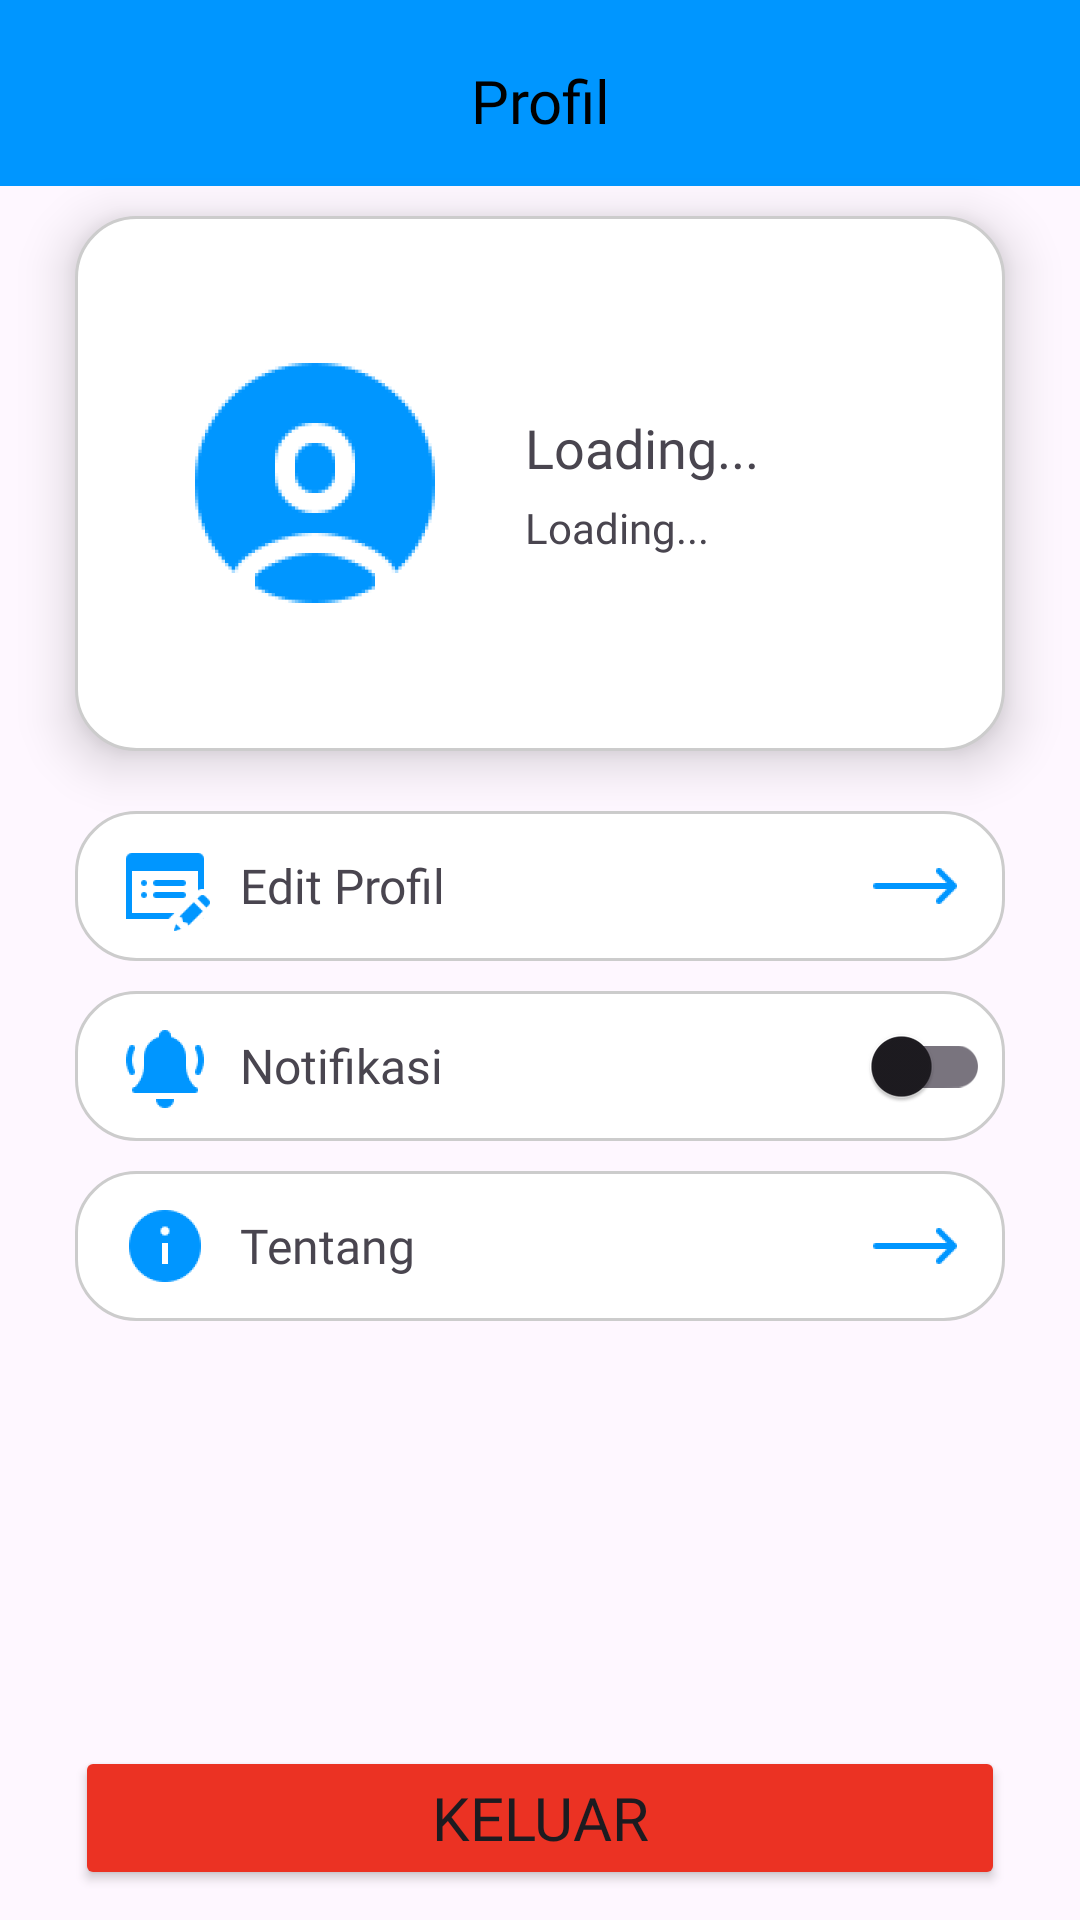

Icons on this 1080px×1920px Android screen, each with its box as BBox(x1, y1, x2, y2):
about: BBox(129, 1210, 201, 1282)
notification: BBox(126, 1030, 204, 1108)
profile picture: BBox(195, 363, 435, 603)
right arrow: BBox(873, 868, 957, 904), BBox(873, 1228, 957, 1264)
